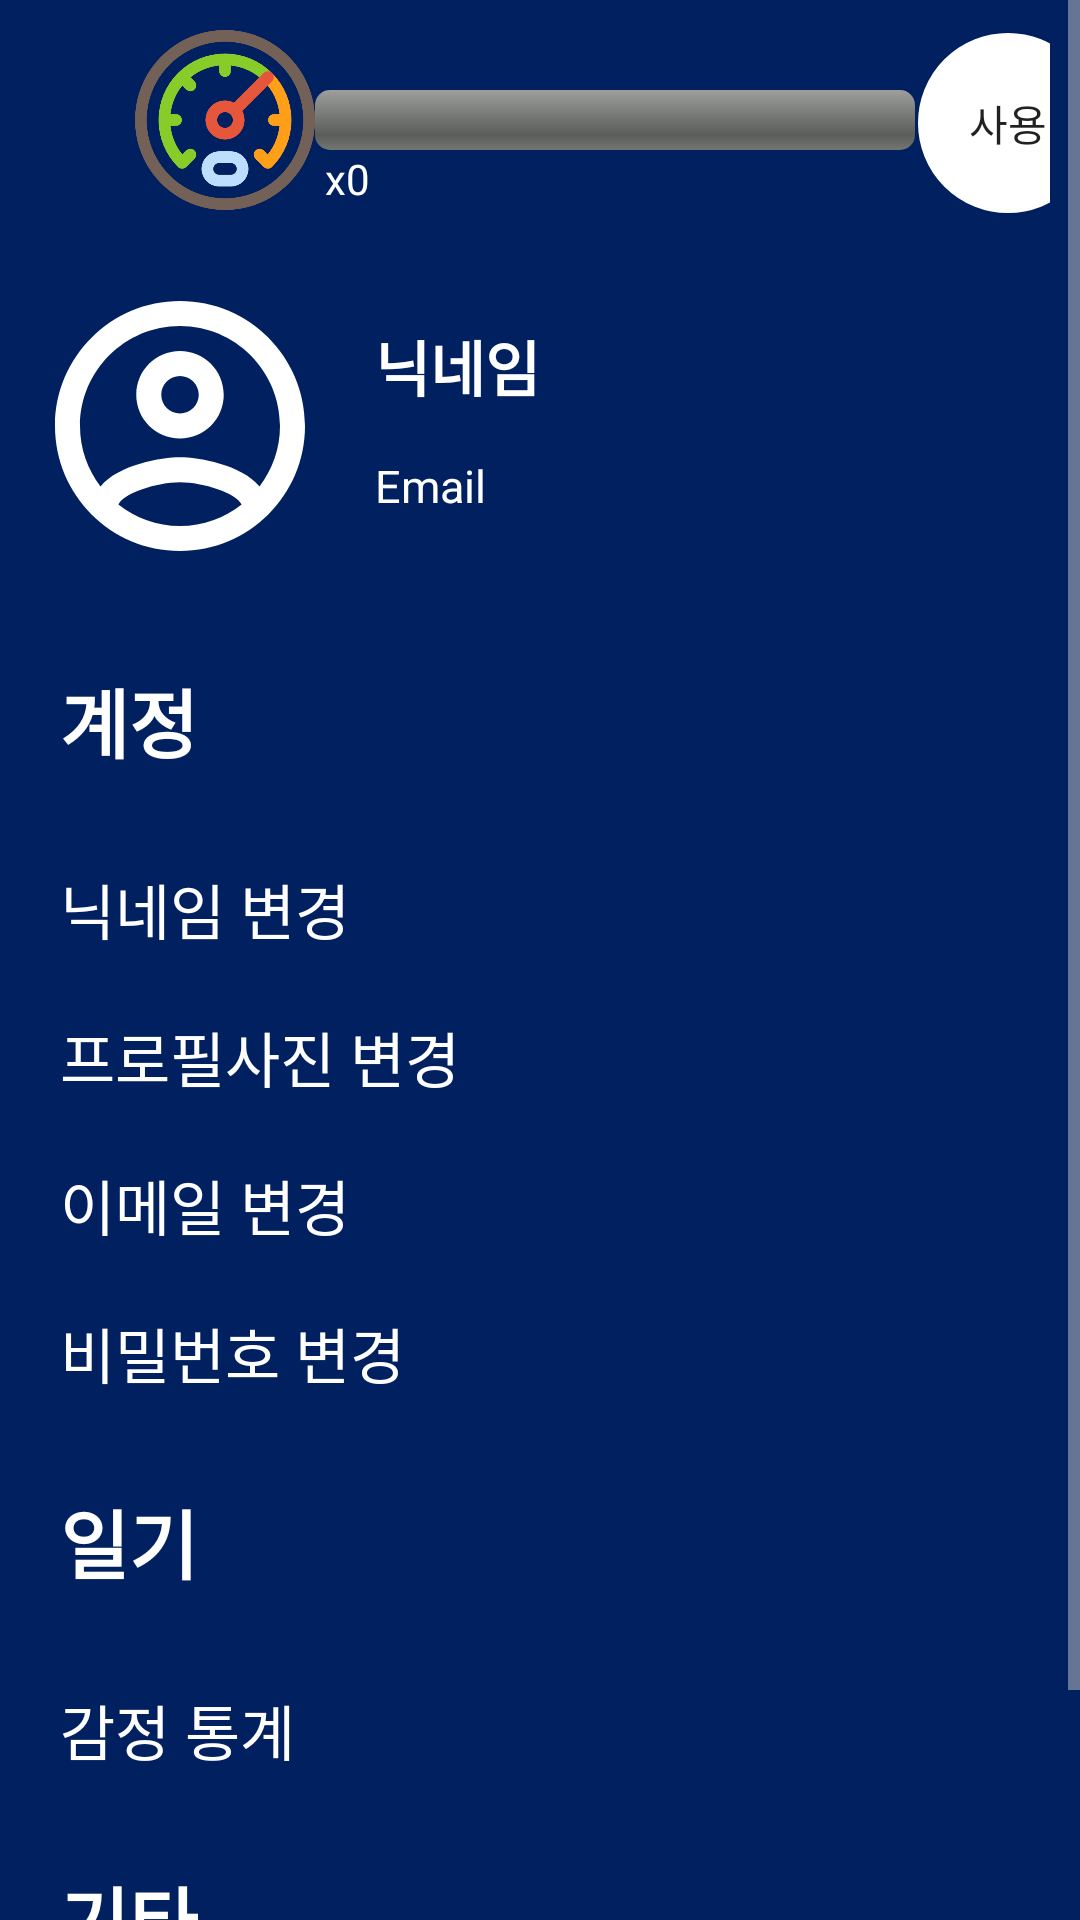

Named icons in this screenshot (1080px x 1920px) and their bounding boxes, (x1, y1, x2, y2):
account circle: (55, 301, 305, 551)
gauge: (158, 53, 292, 187)
